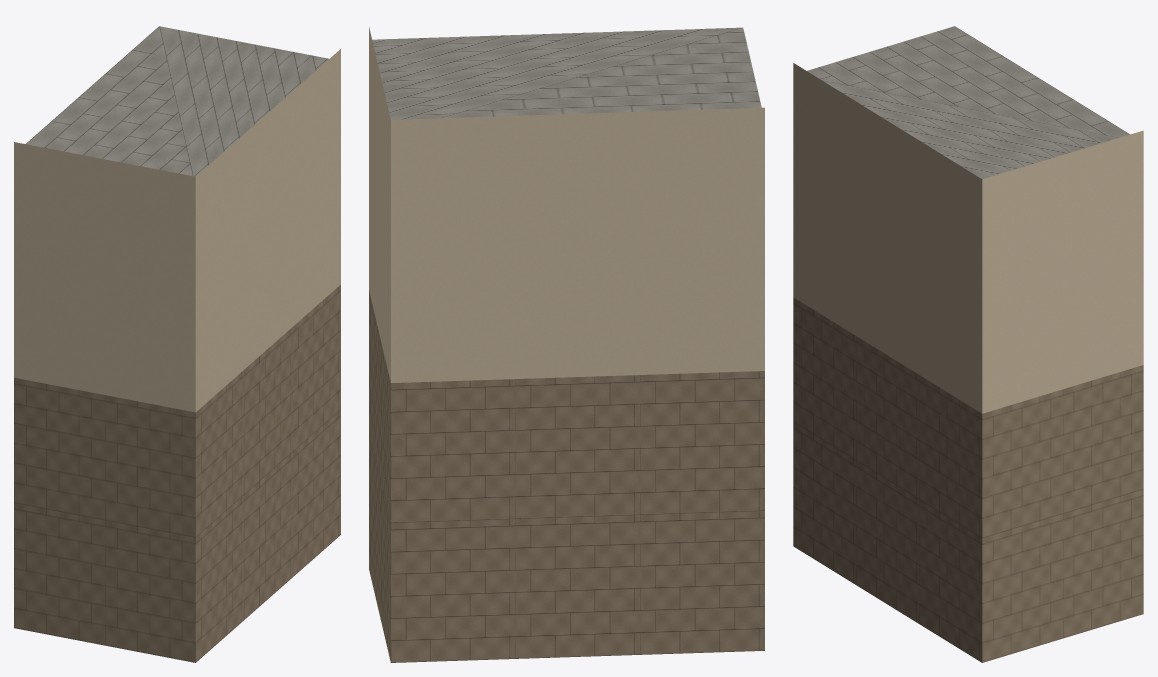
The model's file is bld_c9_17_434.gltf.
3 renders of one model, left to right at view 1: azimuth 30°, elevation 25°; view 2: azimuth 150°, elevation 25°; view 3: azimuth 270°, elevation 25°, orthographic. The views are drawn at different scales.
Visible parts, largest first — view 1: bld_c9_17_434; view 2: bld_c9_17_434; view 3: bld_c9_17_434.
Part boxes in pixels (<box>): bld_c9_17_434: <box>14,26,340,662</box>; bld_c9_17_434: <box>369,27,764,662</box>; bld_c9_17_434: <box>793,26,1143,662</box>.
Size of the model in its own units: 7.02 by 9.58 by 6.28.
4 materials, 4 textured.
